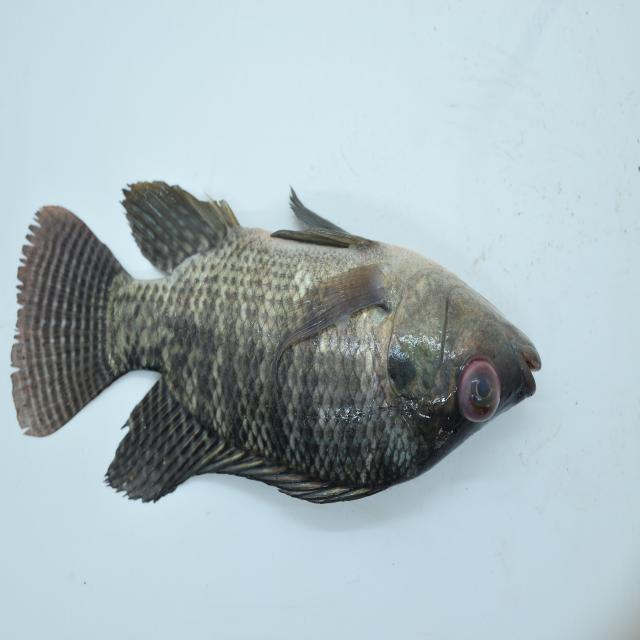streptococcus Disease: (9, 174, 544, 504)
